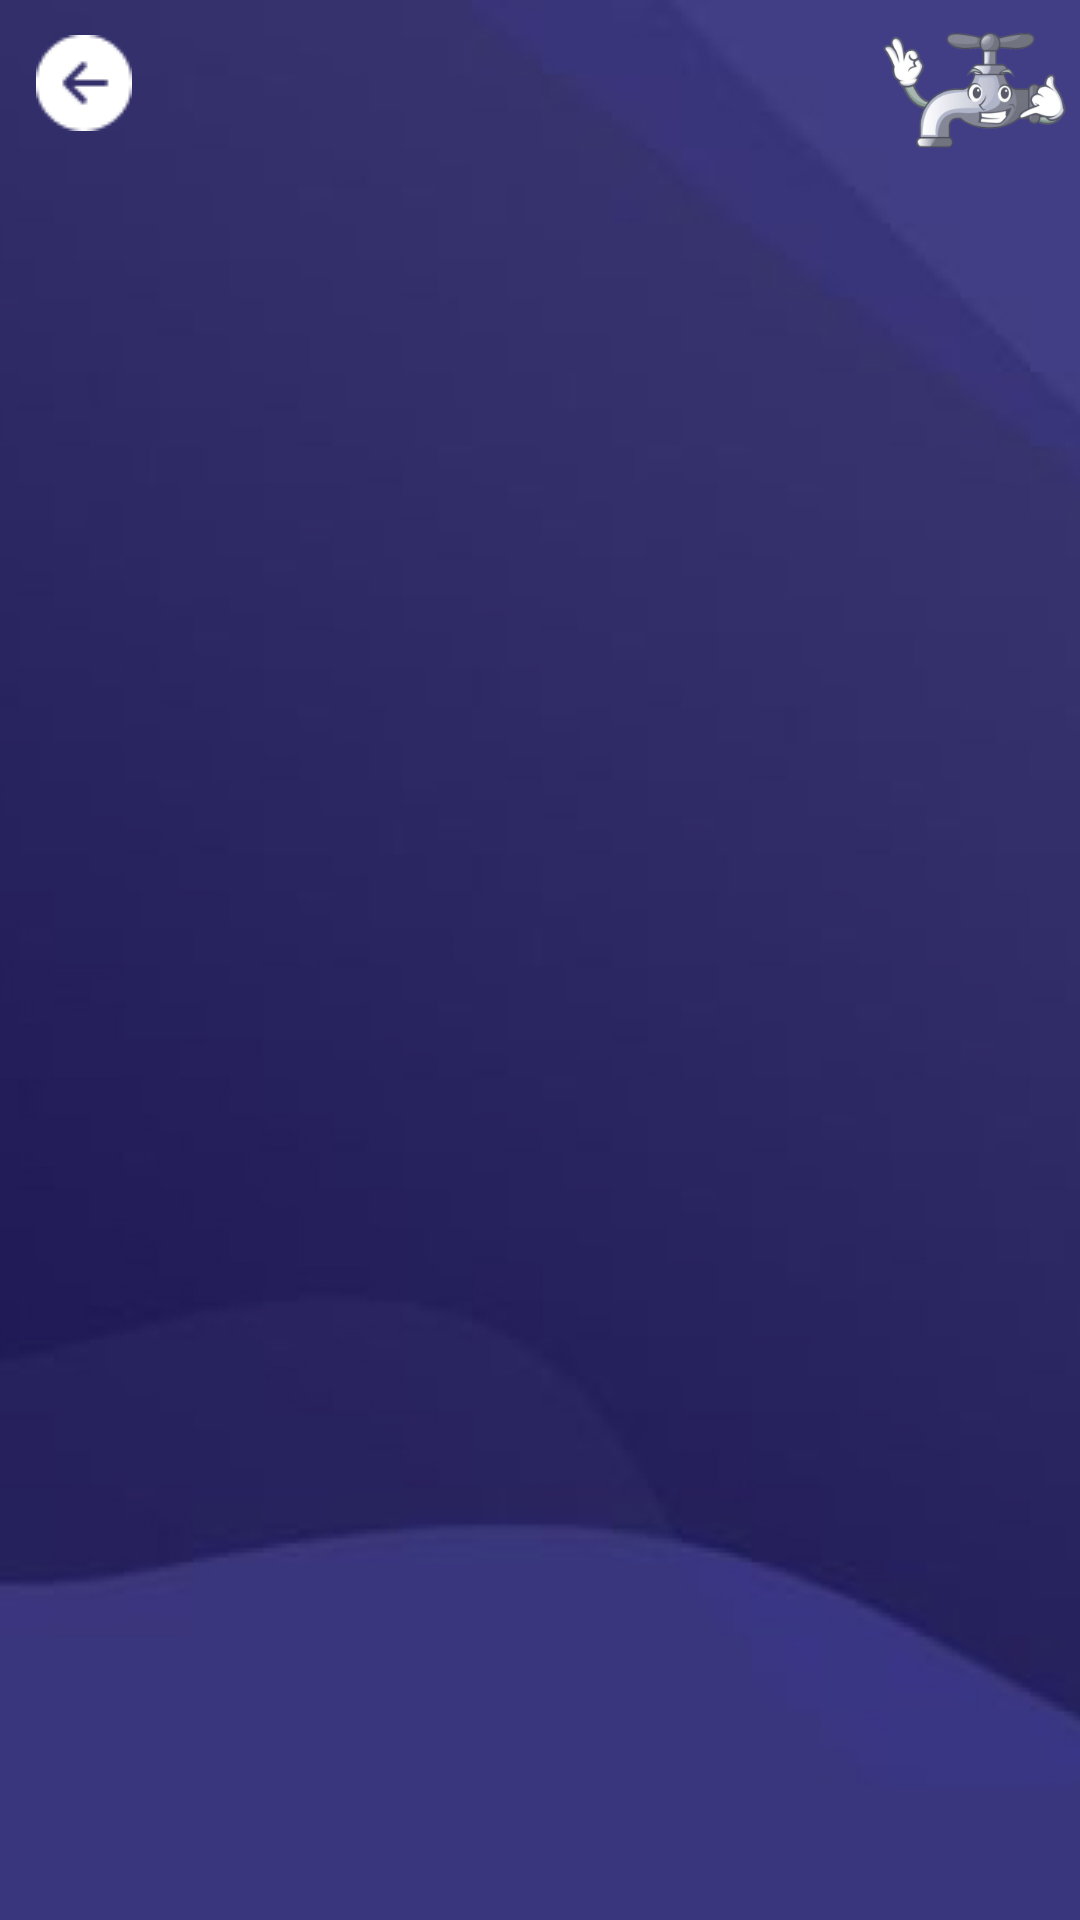

Named icons in this screenshot (1080x1920) and their bounding boxes, (x1, y1, x2, y2):
back: (36, 35, 132, 131)
